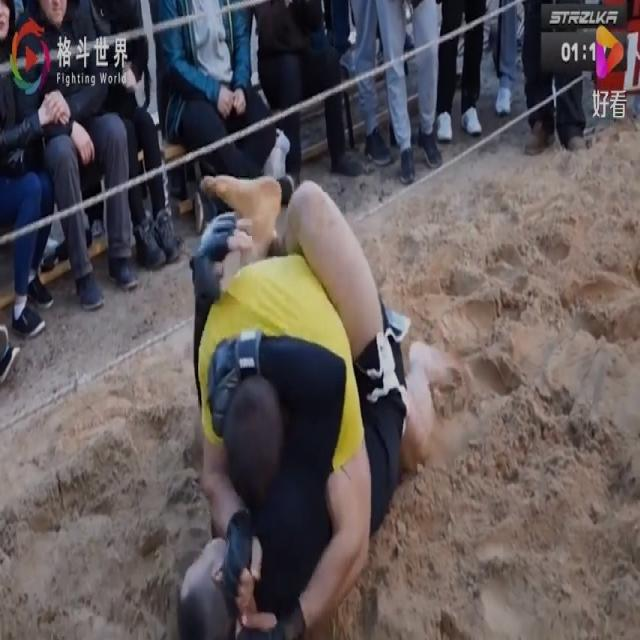fight: (167, 134, 448, 638)
